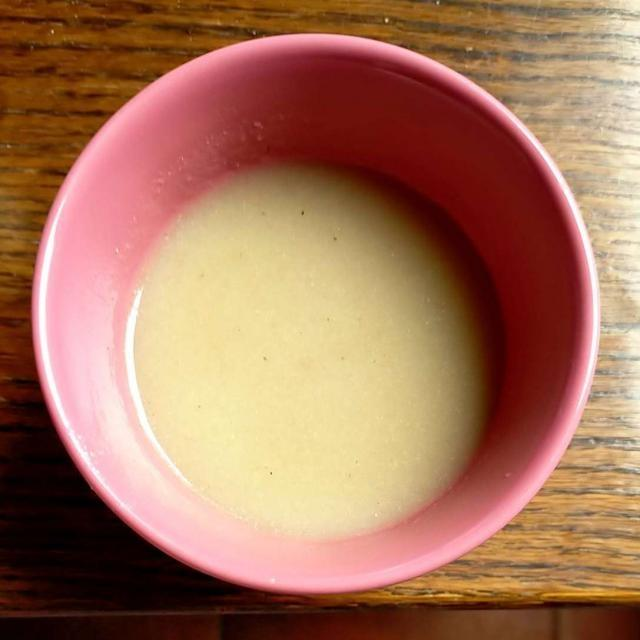soup: (104, 170, 486, 522), (133, 158, 485, 534)
